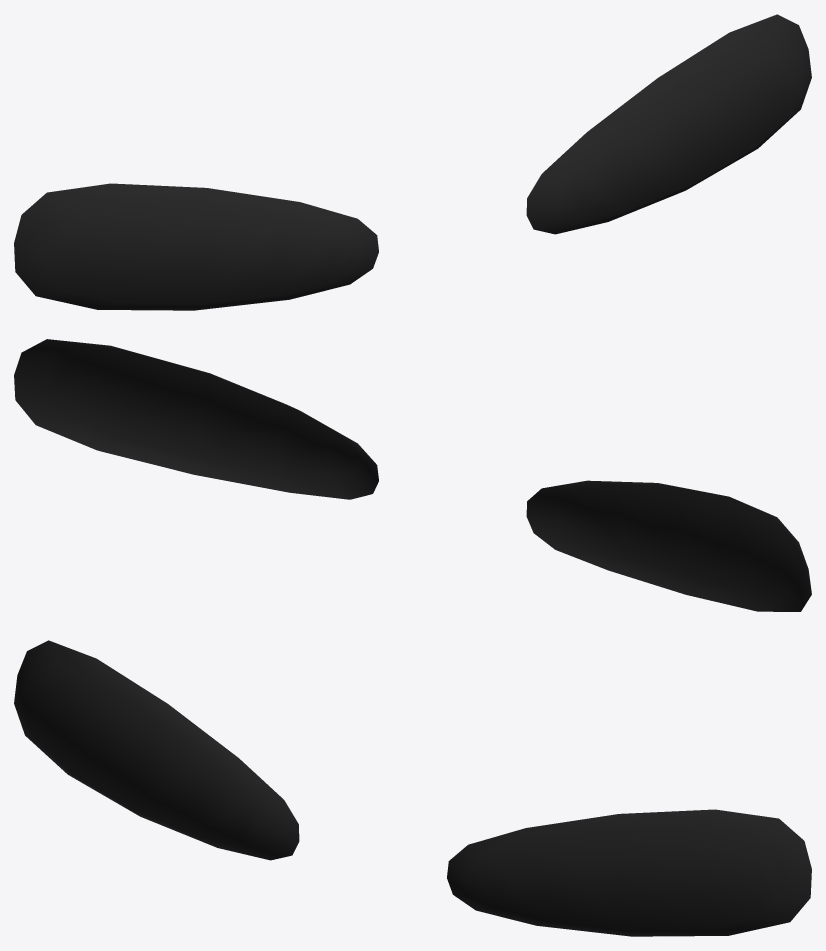
The model's file is eyebrow_3.fbx.
3 renders of one model, top to bottom at view 1: azimuth 30°, elevation 25°; view 2: azimuth 150°, elevation 25°; view 3: azimuth 330°, elevation 25°, orthographic.
Parts seen in each view (by area): view 1: eyebrow_3; view 2: eyebrow_3; view 3: eyebrow_3.
Boxes of the visible parts, bbox=[...] form: eyebrow_3: bbox=[14, 14, 811, 310]; eyebrow_3: bbox=[14, 339, 811, 611]; eyebrow_3: bbox=[14, 640, 811, 936].
Bounding box in the file's own units: 0.8902 × 0.1406 × 0.095.
